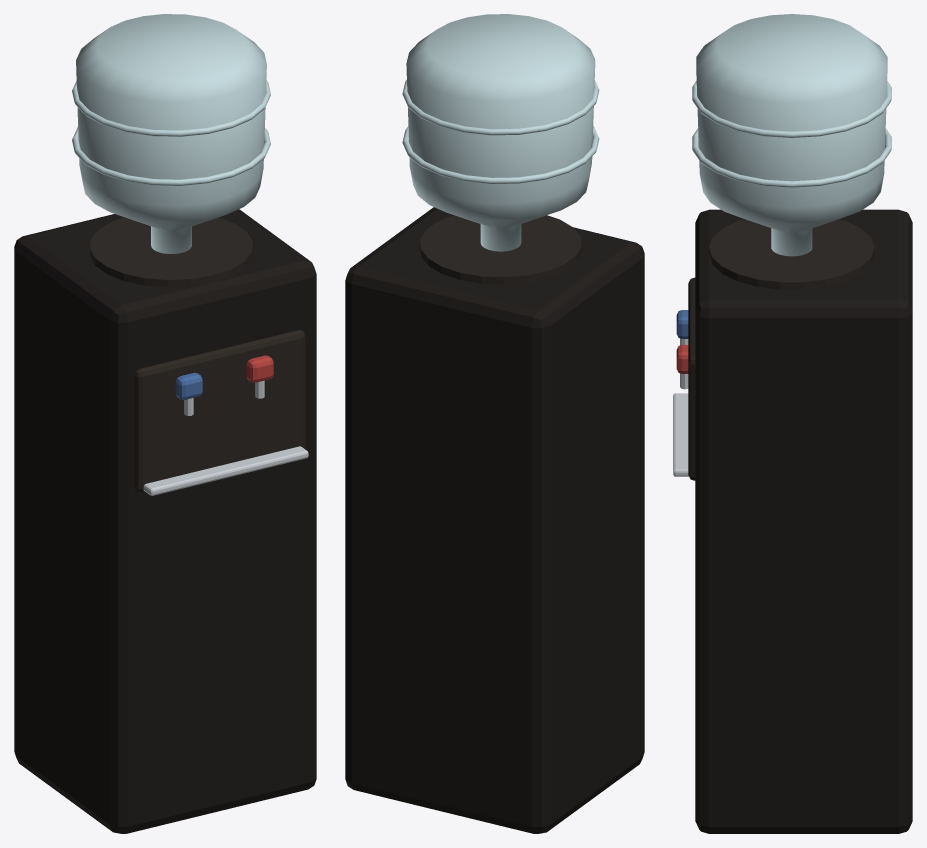
Rendered from hh_cat_water_cooler.glb.
3 renders of one model, left to right at view 1: azimuth 30°, elevation 25°; view 2: azimuth 150°, elevation 25°; view 3: azimuth 270°, elevation 25°, orthographic.
Parts seen in each view (by area): view 1: cooler_cabinet, water_bottle, tap_recess, bottle_collar, drip_grate, bottle_rib, bottle_rib.001, tap.001, tap; view 2: cooler_cabinet, water_bottle, bottle_collar, bottle_rib, bottle_rib.001; view 3: cooler_cabinet, water_bottle, bottle_collar, bottle_rib, bottle_rib.001, tap_recess, drip_grate.
Boxes of the visible parts, <box> form: cooler_cabinet: <box>14,209,316,833</box>; water_bottle: <box>76,14,266,253</box>; tap_recess: <box>134,330,305,491</box>; bottle_collar: <box>90,217,252,287</box>; drip_grate: <box>143,446,308,495</box>; bottle_rib: <box>72,127,270,185</box>; bottle_rib.001: <box>72,80,270,136</box>; tap.001: <box>246,355,273,382</box>; tap: <box>175,372,202,399</box>; cooler_cabinet: <box>345,207,644,833</box>; water_bottle: <box>406,14,595,251</box>; bottle_collar: <box>420,215,581,284</box>; bottle_rib: <box>402,126,599,183</box>; bottle_rib.001: <box>402,79,599,135</box>; cooler_cabinet: <box>695,209,912,833</box>; water_bottle: <box>696,14,887,256</box>; bottle_collar: <box>709,219,874,289</box>; bottle_rib: <box>692,128,891,187</box>; bottle_rib.001: <box>692,81,891,137</box>; tap_recess: <box>688,277,695,480</box>; drip_grate: <box>673,393,688,476</box>.
Size of the model in its own units: 0.35 by 1.2 by 0.35.
